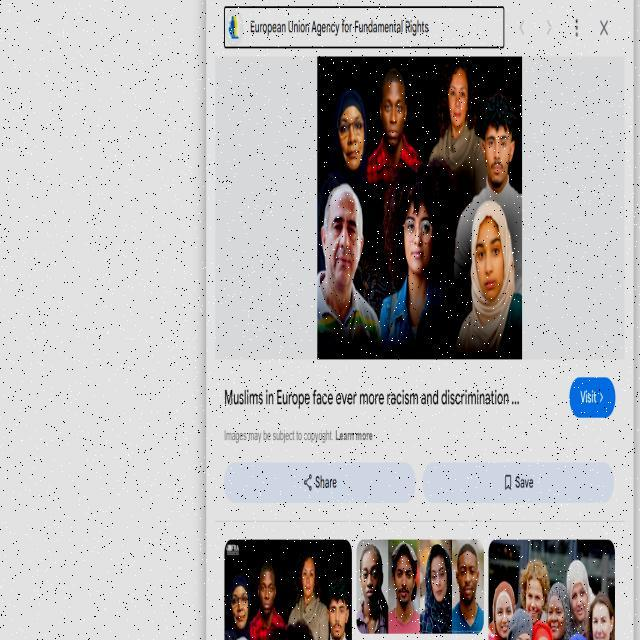face_no_mask: (322, 190, 365, 284), (403, 199, 433, 273), (476, 227, 507, 298), (483, 123, 514, 181), (379, 81, 407, 141), (340, 108, 366, 166), (360, 554, 384, 604), (393, 555, 417, 603), (448, 70, 468, 127), (456, 555, 480, 601), (327, 596, 349, 637), (592, 604, 616, 640), (525, 578, 545, 620), (431, 555, 448, 603), (548, 595, 564, 640), (495, 596, 513, 635), (232, 591, 250, 629), (303, 557, 317, 604), (570, 584, 588, 620), (260, 575, 276, 611)
